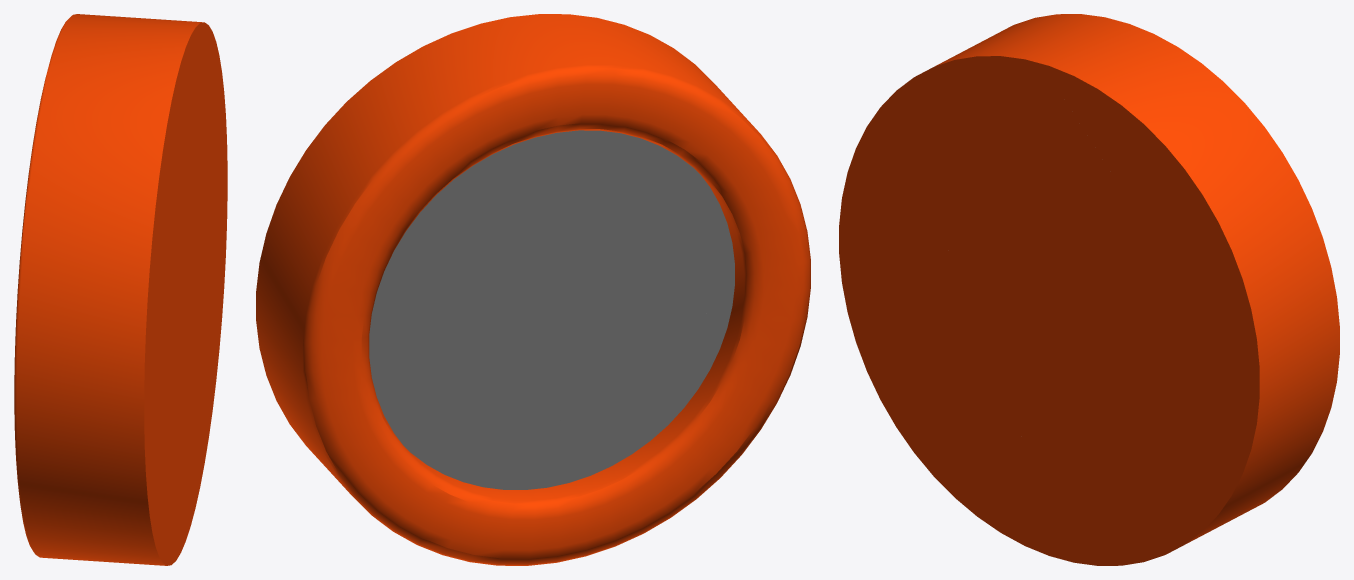
The model's file is Stage2_sh_2_root.fbx.
3 views of the same model, side by side, from view 1: azimuth 30°, elevation 25°; view 2: azimuth 150°, elevation 25°; view 3: azimuth 270°, elevation 25° (orthographic).
Parts seen in each view (by area): view 1: Stage2_sh_2_sh_7, Stage2_sh_2_sh_4, Stage2_sh_2_sh_3, Stage2_sh_2_sh_14, Stage2_sh_2_sh_5, Stage2_sh_2_sh_16, Stage2_sh_2_sh_13, Stage2_sh_2_sh_1, Stage2_sh_2_sh_6, Stage2_sh_2_sh_15, Stage2_sh_2_sh_2, Stage2_sh_2_sh_11 (+4 smaller); view 2: Stage2_sh_2_sh_15, Stage2_sh_2_sh_1, Stage2_sh_2_sh_9, Stage2_sh_2_sh_13, Stage2_sh_2_sh_7, Stage2_sh_2_sh_3, Stage2_sh_2_sh_5, Stage2_sh_2_sh_11, Stage2_sh_2_sh_16, Stage2_sh_2_sh_17, Stage2_sh_2_sh_10, Stage2_sh_2_sh_4; view 3: Stage2_sh_2_sh_5, Stage2_sh_2_sh_1, Stage2_sh_2_sh_3, Stage2_sh_2_sh_9, Stage2_sh_2_sh_7, Stage2_sh_2_sh_15, Stage2_sh_2_sh_14, Stage2_sh_2_sh_16, Stage2_sh_2_sh_2, Stage2_sh_2_sh_17, Stage2_sh_2_sh_8, Stage2_sh_2_sh_4 (+2 smaller).
Boxes of the visible parts, left/top/right/bottom form: Stage2_sh_2_sh_7: left=14, top=197, right=168, bottom=442; Stage2_sh_2_sh_4: left=25, top=119, right=161, bottom=315; Stage2_sh_2_sh_3: left=56, top=29, right=216, bottom=266; Stage2_sh_2_sh_14: left=37, top=383, right=169, bottom=546; Stage2_sh_2_sh_5: left=179, top=165, right=218, bottom=532; Stage2_sh_2_sh_16: left=36, top=389, right=180, bottom=558; Stage2_sh_2_sh_13: left=14, top=429, right=79, bottom=554; Stage2_sh_2_sh_1: left=60, top=14, right=226, bottom=166; Stage2_sh_2_sh_6: left=123, top=87, right=174, bottom=221; Stage2_sh_2_sh_15: left=168, top=223, right=204, bottom=391; Stage2_sh_2_sh_2: left=159, top=177, right=180, bottom=358; Stage2_sh_2_sh_11: left=27, top=41, right=67, bottom=181; Stage2_sh_2_sh_15: left=382, top=177, right=663, bottom=419; Stage2_sh_2_sh_1: left=259, top=38, right=533, bottom=289; Stage2_sh_2_sh_9: left=256, top=262, right=486, bottom=526; Stage2_sh_2_sh_13: left=579, top=311, right=807, bottom=501; Stage2_sh_2_sh_7: left=641, top=118, right=810, bottom=314; Stage2_sh_2_sh_3: left=409, top=14, right=661, bottom=245; Stage2_sh_2_sh_5: left=446, top=367, right=560, bottom=565; Stage2_sh_2_sh_11: left=548, top=60, right=725, bottom=164; Stage2_sh_2_sh_16: left=548, top=407, right=694, bottom=511; Stage2_sh_2_sh_17: left=518, top=480, right=680, bottom=565; Stage2_sh_2_sh_10: left=274, top=395, right=493, bottom=564; Stage2_sh_2_sh_4: left=640, top=39, right=755, bottom=128; Stage2_sh_2_sh_5: left=1013, top=319, right=1214, bottom=565; Stage2_sh_2_sh_1: left=1104, top=31, right=1332, bottom=337; Stage2_sh_2_sh_3: left=965, top=18, right=1202, bottom=321; Stage2_sh_2_sh_9: left=1213, top=273, right=1339, bottom=472; Stage2_sh_2_sh_7: left=839, top=145, right=964, bottom=321; Stage2_sh_2_sh_15: left=962, top=262, right=1141, bottom=370; Stage2_sh_2_sh_14: left=839, top=252, right=967, bottom=426; Stage2_sh_2_sh_16: left=896, top=333, right=1024, bottom=459; Stage2_sh_2_sh_2: left=914, top=120, right=1023, bottom=300; Stage2_sh_2_sh_17: left=919, top=459, right=1060, bottom=558; Stage2_sh_2_sh_8: left=1042, top=64, right=1196, bottom=305; Stage2_sh_2_sh_4: left=852, top=27, right=1015, bottom=159.
Bounding box in the file's own units: 71.49 × 88.23 × 81.7.
